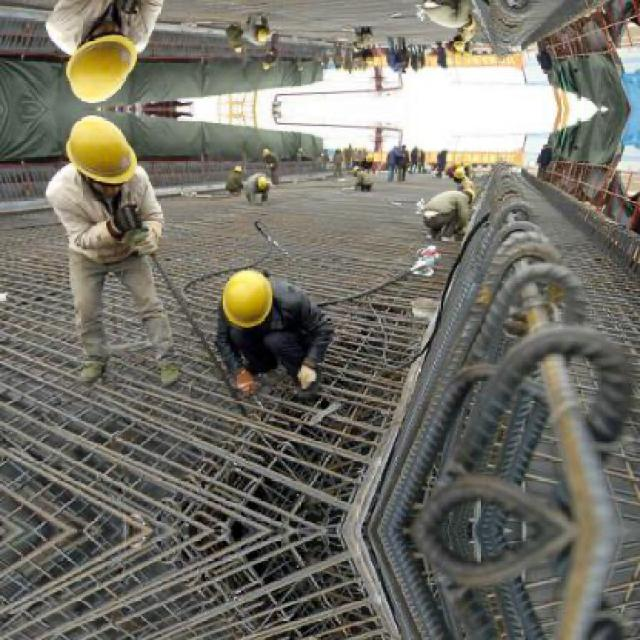helmet: (63, 112, 139, 194), (63, 23, 139, 105), (218, 263, 277, 331), (457, 180, 480, 205), (457, 11, 480, 35), (449, 164, 466, 182), (449, 36, 466, 52), (256, 26, 270, 45), (256, 171, 270, 189), (229, 41, 243, 56), (229, 162, 243, 176), (260, 143, 272, 157), (260, 60, 272, 74), (351, 41, 360, 56), (363, 150, 374, 162), (351, 162, 360, 176), (363, 56, 374, 66)
